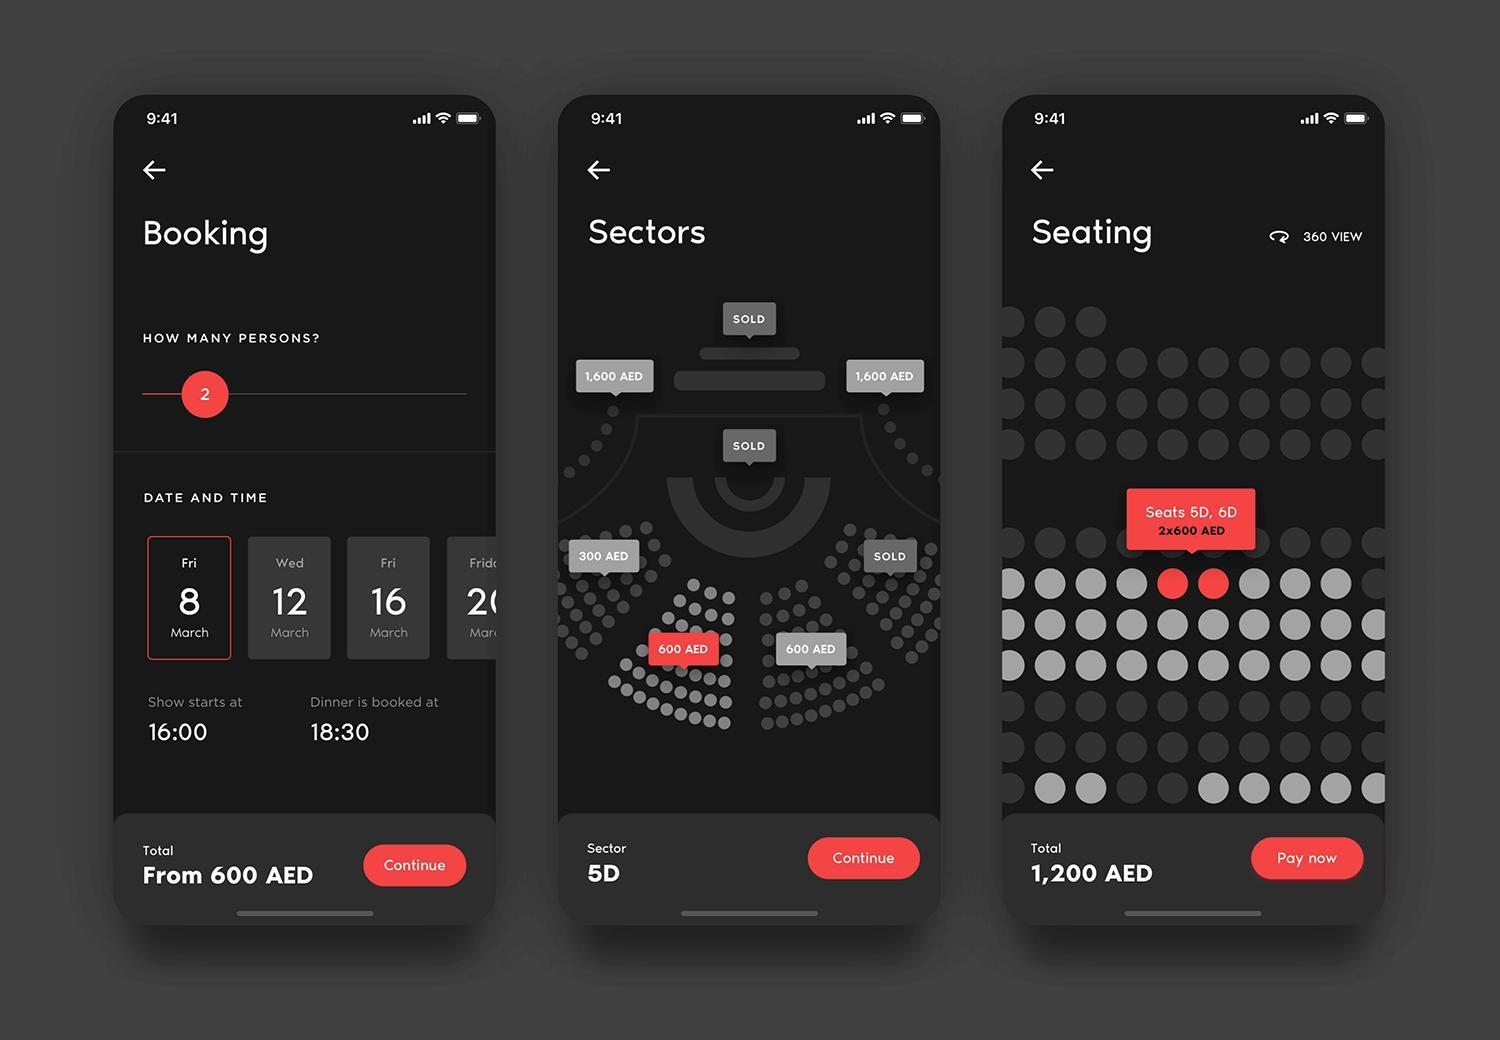button: (1252, 836, 1367, 883), (807, 837, 923, 881), (362, 844, 468, 889)
icon: (142, 159, 169, 185), (1029, 159, 1057, 182), (587, 159, 610, 184)
label: (1030, 842, 1159, 889), (1032, 217, 1161, 259), (141, 864, 316, 894), (146, 217, 272, 254), (137, 327, 324, 351), (588, 219, 708, 249), (137, 488, 272, 509), (303, 693, 445, 713), (580, 839, 631, 889), (144, 721, 207, 749), (148, 697, 247, 713), (305, 723, 370, 746), (137, 846, 177, 858)
slider: (137, 369, 475, 419)
